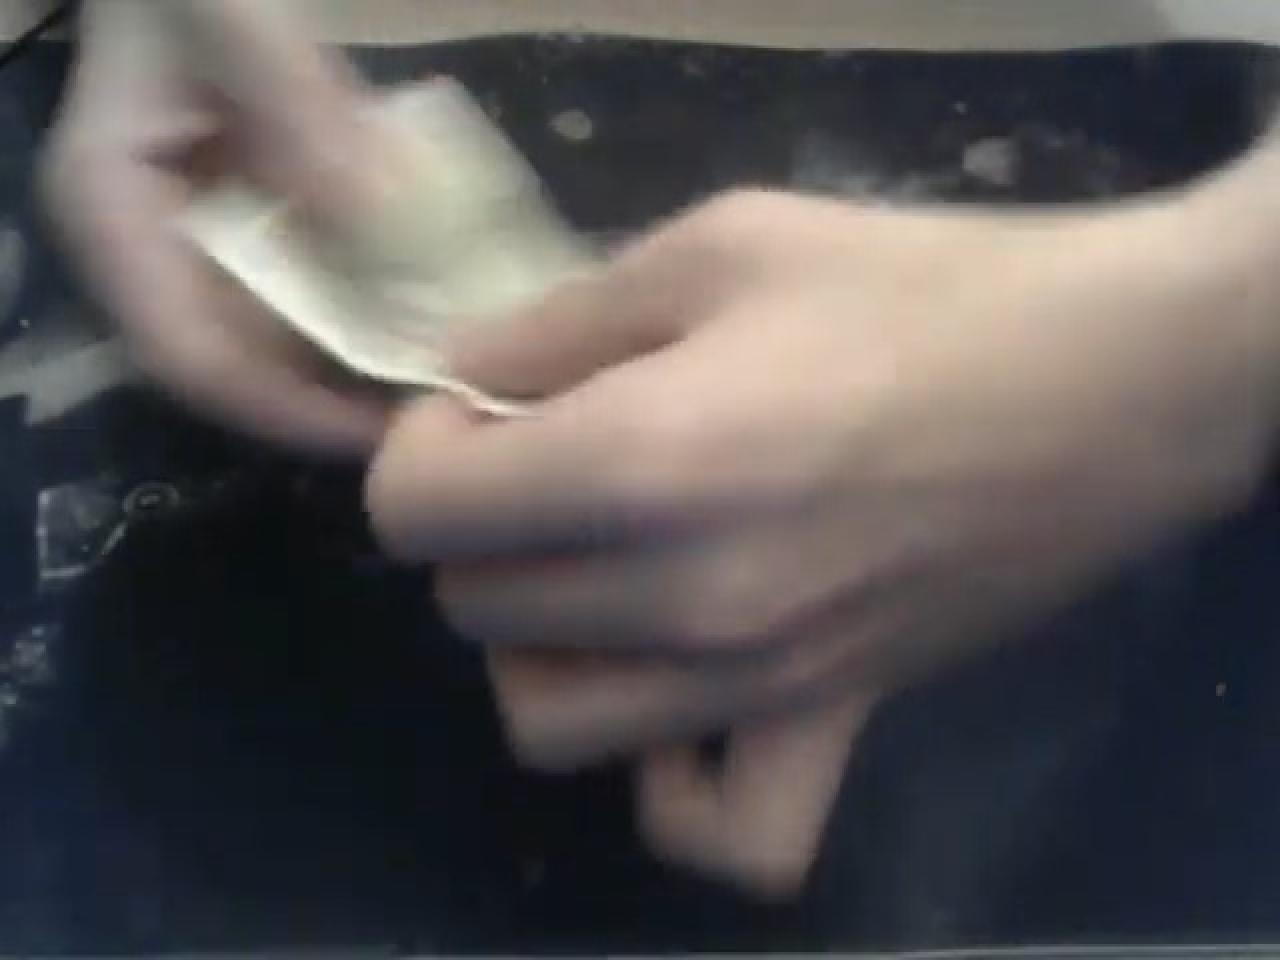10leva: (6, 5, 1274, 947)
